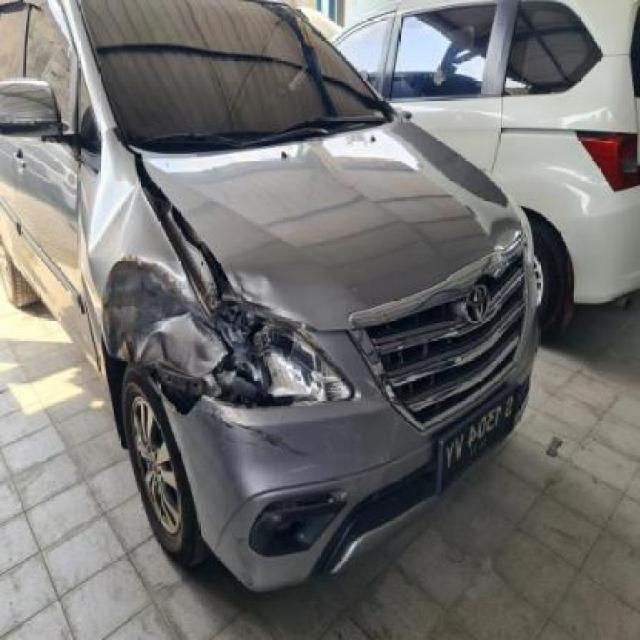damage: (80, 154, 309, 462)
